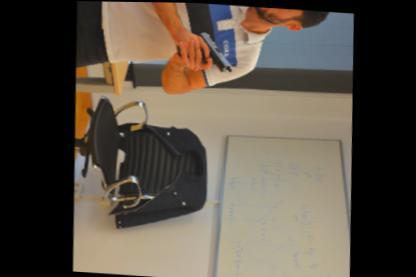pistol: (174, 26, 234, 70)
